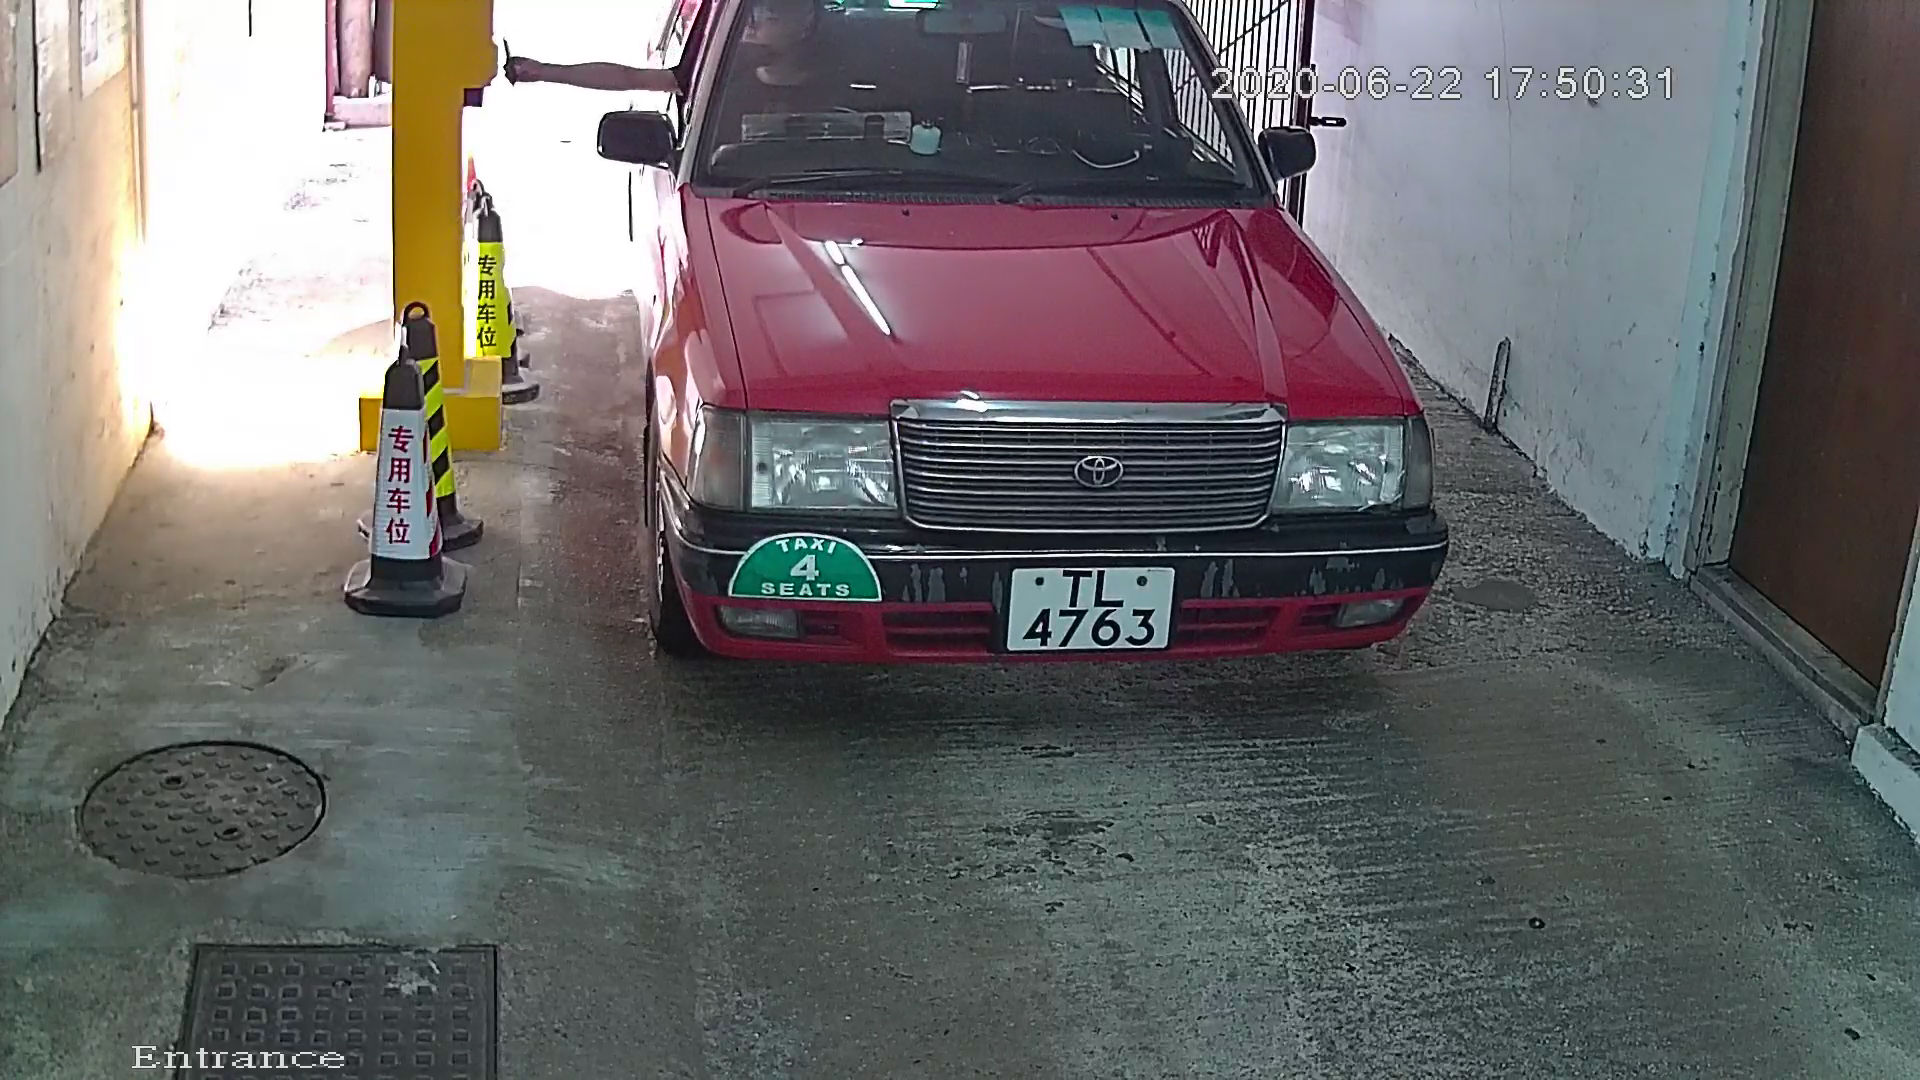taxi: (571, 3, 1514, 766)
taxi_mark: (707, 498, 895, 640)
